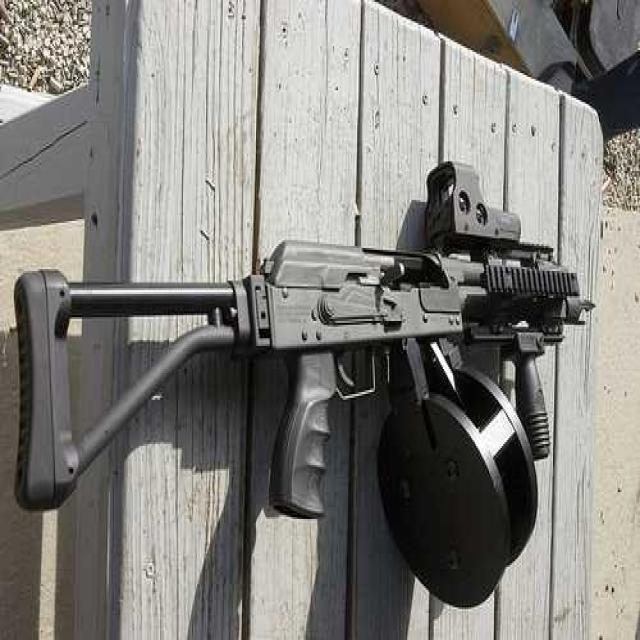heavyweapon: (17, 138, 589, 526)
